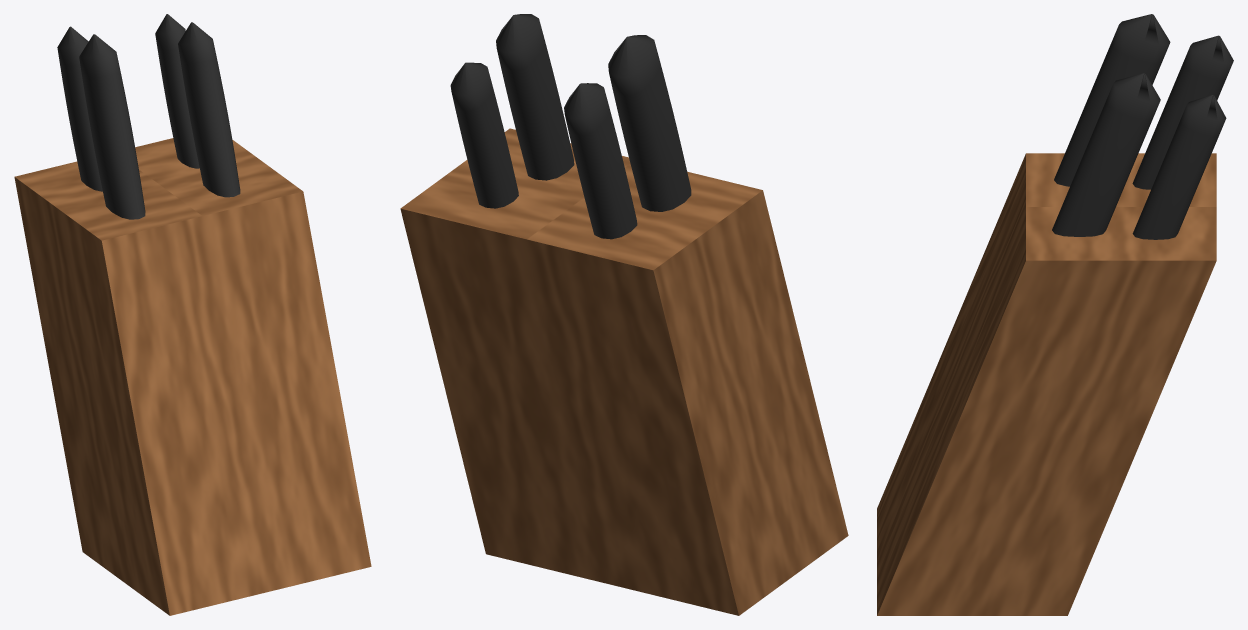
3 renders of one model, left to right at view 1: azimuth 30°, elevation 25°; view 2: azimuth 150°, elevation 25°; view 3: azimuth 270°, elevation 25°, orthographic. The views are drawn at different scales.
Parts seen in each view (by area): view 1: Knife block with knives; view 2: Knife block with knives; view 3: Knife block with knives.
Boxes of the visible parts, bbox=[...] form: Knife block with knives: bbox=[14, 14, 371, 615]; Knife block with knives: bbox=[400, 14, 848, 615]; Knife block with knives: bbox=[877, 14, 1233, 615].
Size of the model in its own units: 0.12 by 0.2714 by 0.1684.
Materials: 2 (1 with a texture image).
